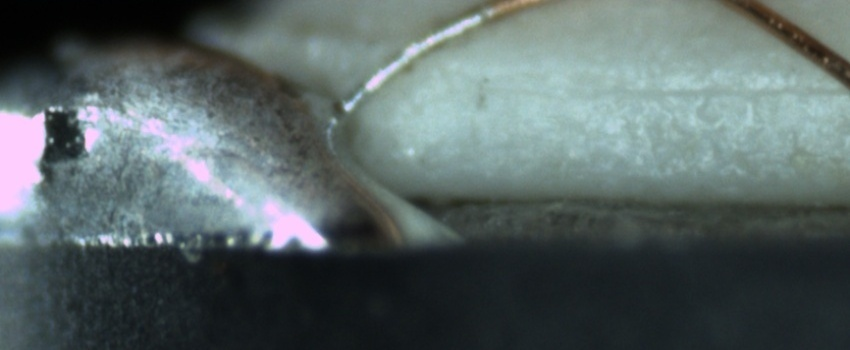DL: (575, 58, 849, 122)
TS: (342, 8, 493, 111)
